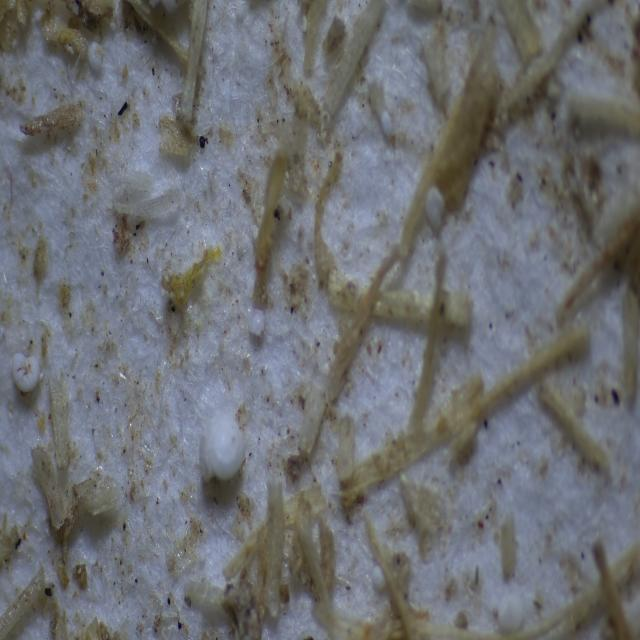microplastic: (161, 235, 223, 300)
